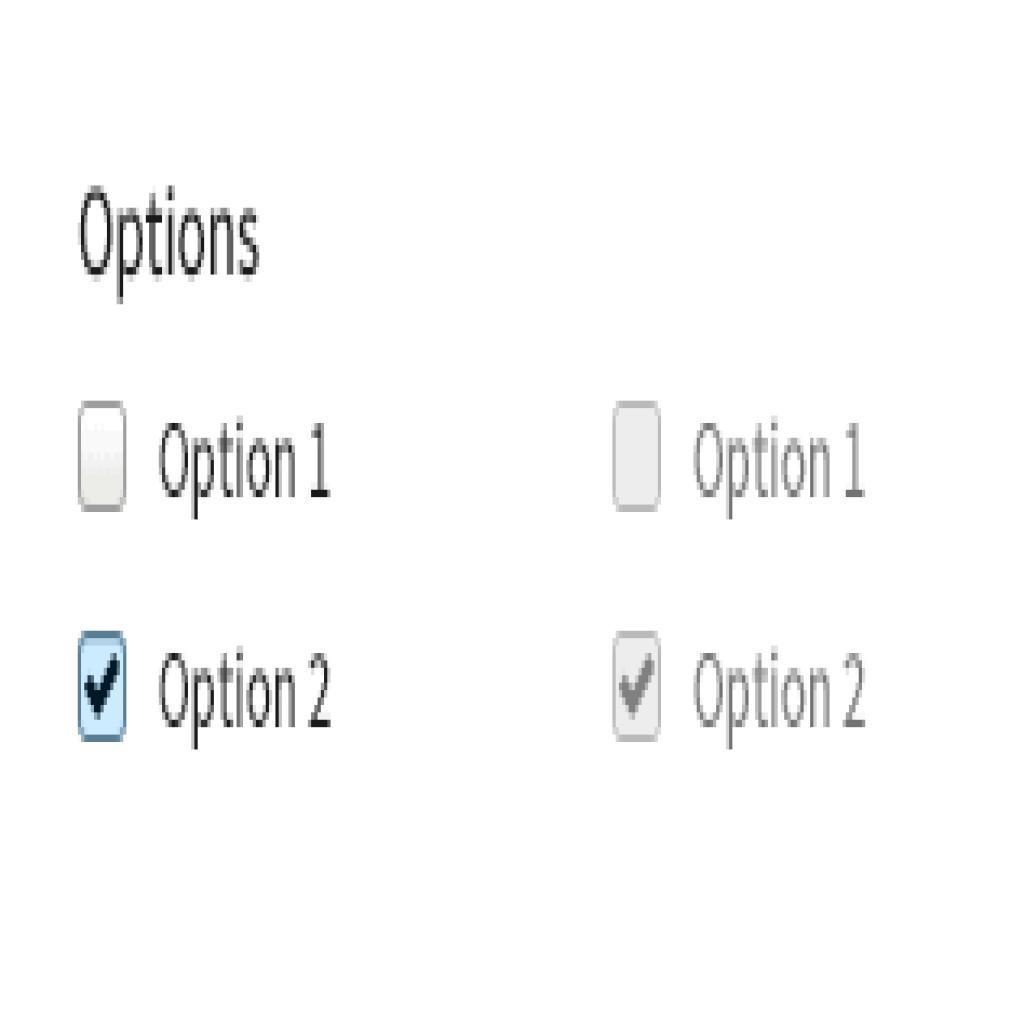checkbox: (78, 628, 134, 747), (77, 404, 134, 514), (612, 631, 665, 742), (614, 403, 664, 510)
